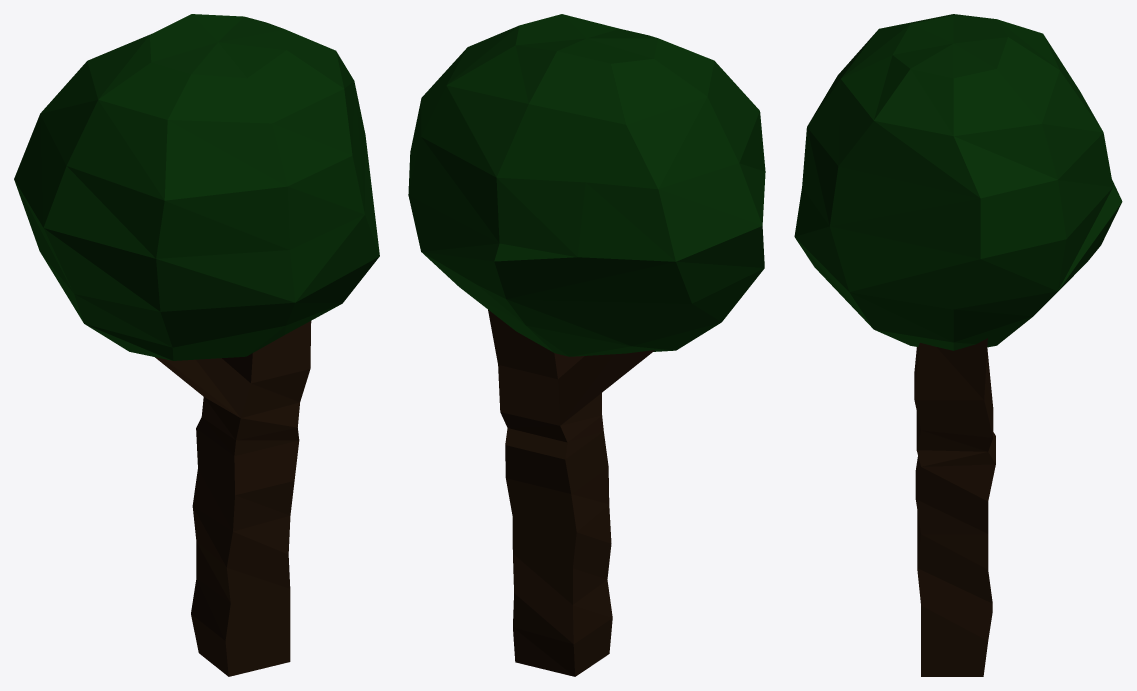
File: Tree.dae
3 views of the same model, side by side, from view 1: azimuth 30°, elevation 25°; view 2: azimuth 150°, elevation 25°; view 3: azimuth 270°, elevation 25° (orthographic). The views are drawn at different scales.
Visible parts, largest first — view 1: pSphere1, pCube1; view 2: pSphere1, pCube1; view 3: pSphere1, pCube1.
Boxes of the visible parts, x1,y1,x2,y2 form: pSphere1: (14,14,379,360); pCube1: (155,321,311,676); pSphere1: (408,14,765,356); pCube1: (488,310,654,676); pSphere1: (794,14,1122,350); pCube1: (914,338,995,676).
Size of the model in its own units: 5.64 by 10.09 by 4.89.
